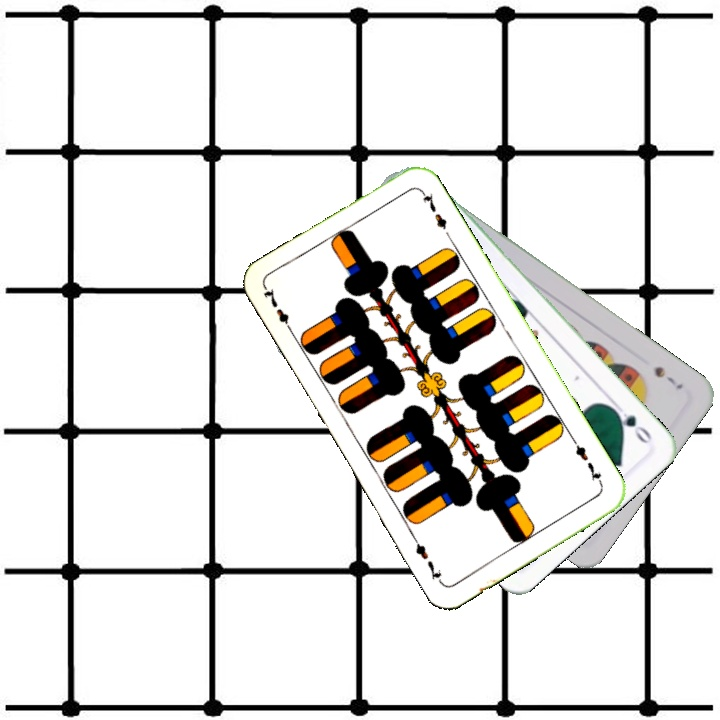E7: (259, 284, 297, 338), (568, 435, 605, 488)
GO: (606, 399, 655, 447)
S7: (650, 362, 686, 392)
